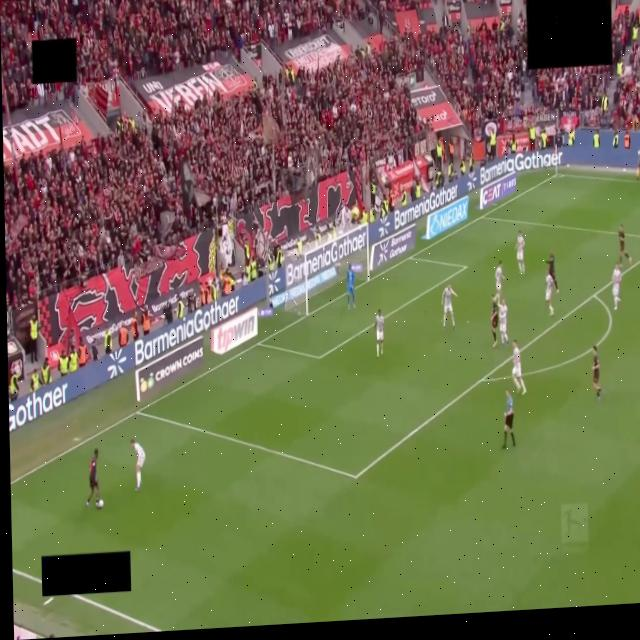ball: (97, 500, 103, 508)
player: (86, 449, 99, 506), (512, 340, 525, 394), (131, 440, 144, 490), (442, 286, 457, 328), (619, 226, 632, 266), (546, 252, 558, 293), (593, 345, 601, 399), (499, 299, 508, 346), (612, 264, 621, 309), (545, 272, 554, 316), (376, 309, 384, 357), (516, 231, 525, 273), (492, 295, 499, 347), (347, 264, 355, 309), (495, 260, 504, 298)
referee: (503, 390, 515, 449)
